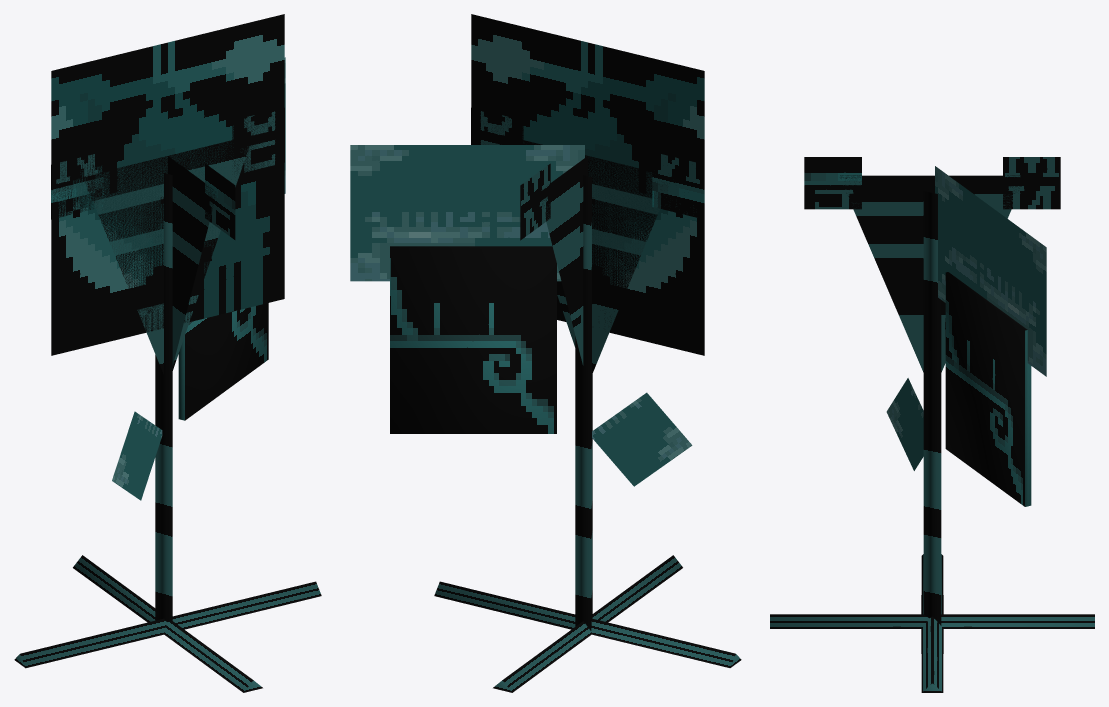
3 renders of one model, left to right at view 1: azimuth 30°, elevation 25°; view 2: azimuth 150°, elevation 25°; view 3: azimuth 270°, elevation 25°, orthographic. The views are drawn at different scales.
Parts seen in each view (by area): view 1: 3744kg_ga_03; view 2: 3744kg_ga_03; view 3: 3744kg_ga_03.
Boxes of the visible parts, bbox=[...] form: 3744kg_ga_03: bbox=[14, 14, 321, 692]; 3744kg_ga_03: bbox=[350, 14, 741, 692]; 3744kg_ga_03: bbox=[770, 157, 1094, 692].
Size of the model in its own units: 0.9194 by 1.58 by 0.8359.
3 materials, 3 textured.
